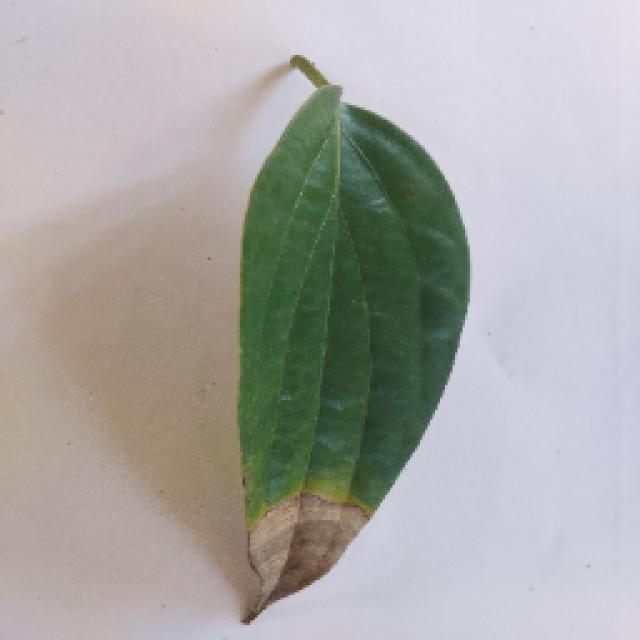footrot: (230, 65, 472, 633)
